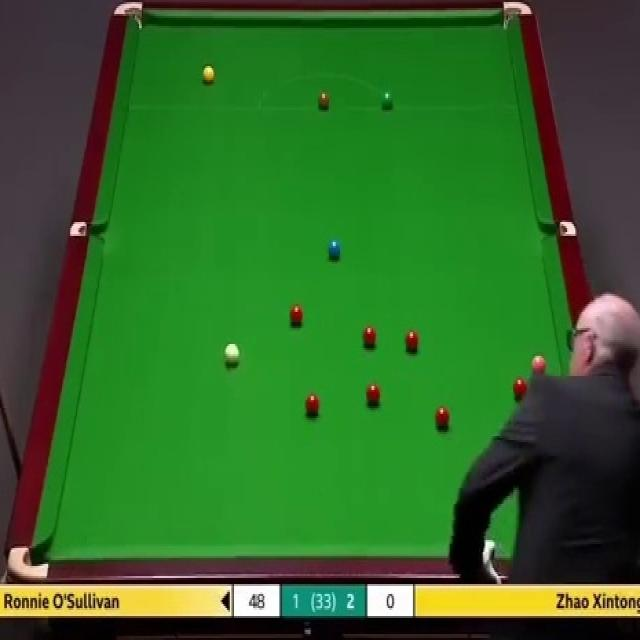blue-ball: (328, 236, 341, 262)
brown-ball: (317, 91, 331, 109)
green-ball: (380, 88, 395, 110)
pink-ball: (531, 357, 546, 375)
red-ball: (304, 392, 322, 418), (434, 405, 451, 432), (360, 325, 378, 348), (511, 377, 529, 398), (365, 382, 380, 406), (406, 328, 420, 352), (289, 303, 303, 324)
white-ball: (225, 344, 241, 368)
yellow-ball: (203, 66, 215, 85)
